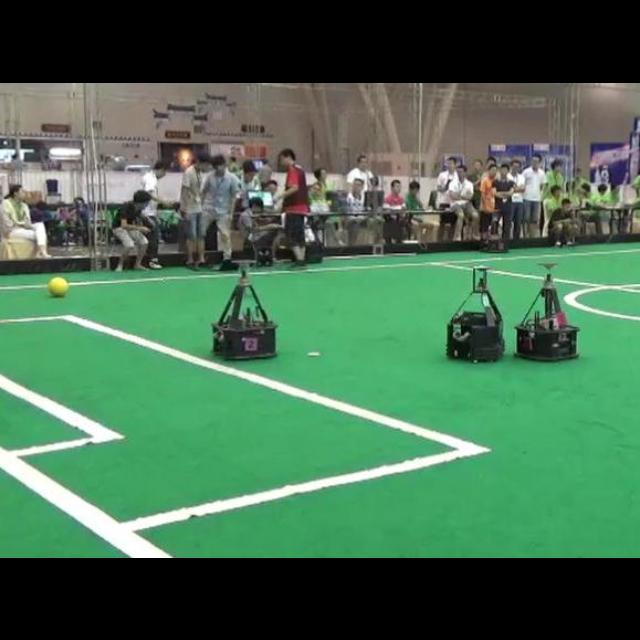ball: (48, 275, 69, 295)
robot: (212, 270, 276, 357), (515, 271, 578, 358), (447, 265, 503, 359)
